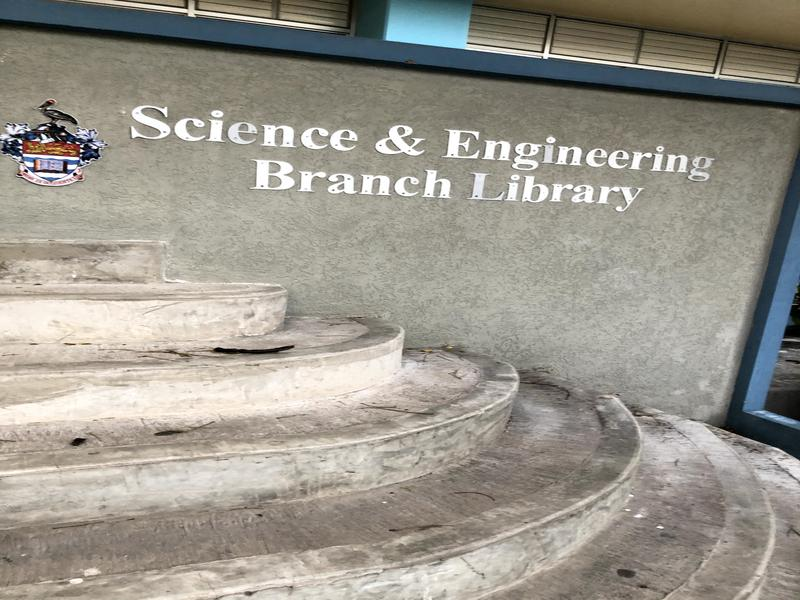18.0053644_-76.7493880_librarysign: (121, 94, 720, 251)
